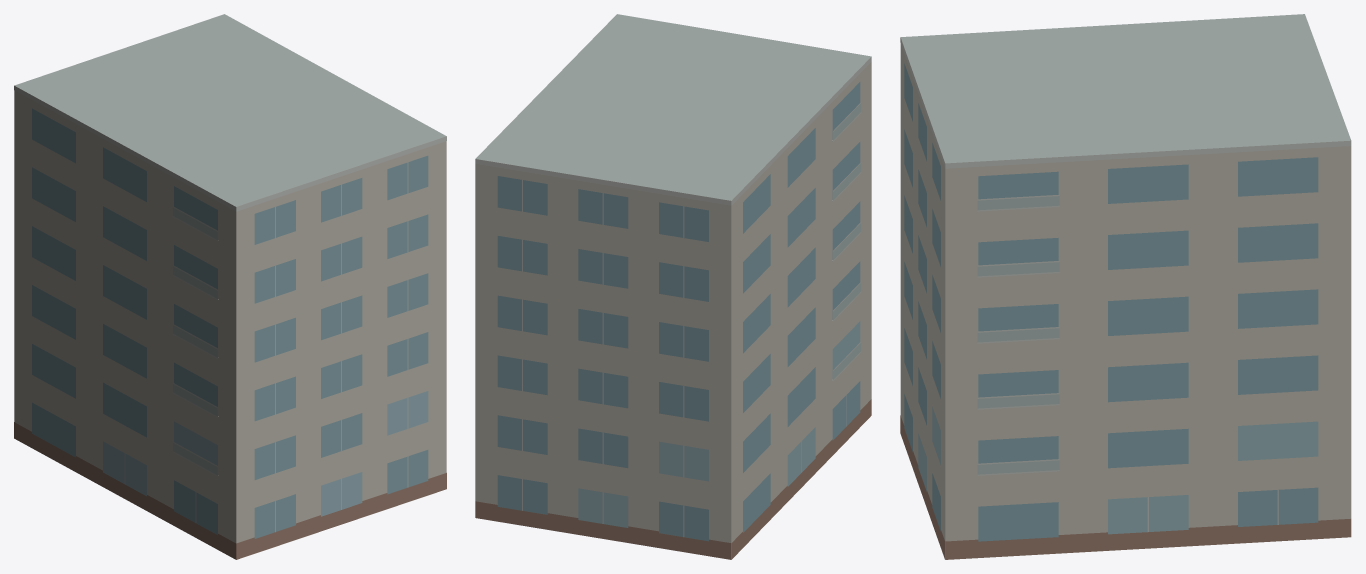
Rendered from survey-upis-32707825.glb.
3 views of the same model, side by side, from view 1: azimuth 30°, elevation 25°; view 2: azimuth 150°, elevation 25°; view 3: azimuth 270°, elevation 25° (orthographic). The views are drawn at different scales.
Parts seen in each view (by area): view 1: survey-upis-32707825.tmp; view 2: survey-upis-32707825.tmp; view 3: survey-upis-32707825.tmp.
Boxes of the visible parts, box(x1,y1,x2,y2) form: survey-upis-32707825.tmp: box(14, 14, 446, 559); survey-upis-32707825.tmp: box(475, 14, 871, 559); survey-upis-32707825.tmp: box(900, 14, 1351, 559).
Bounding box in the file's own units: 14.8 × 18.3 × 18.87.
